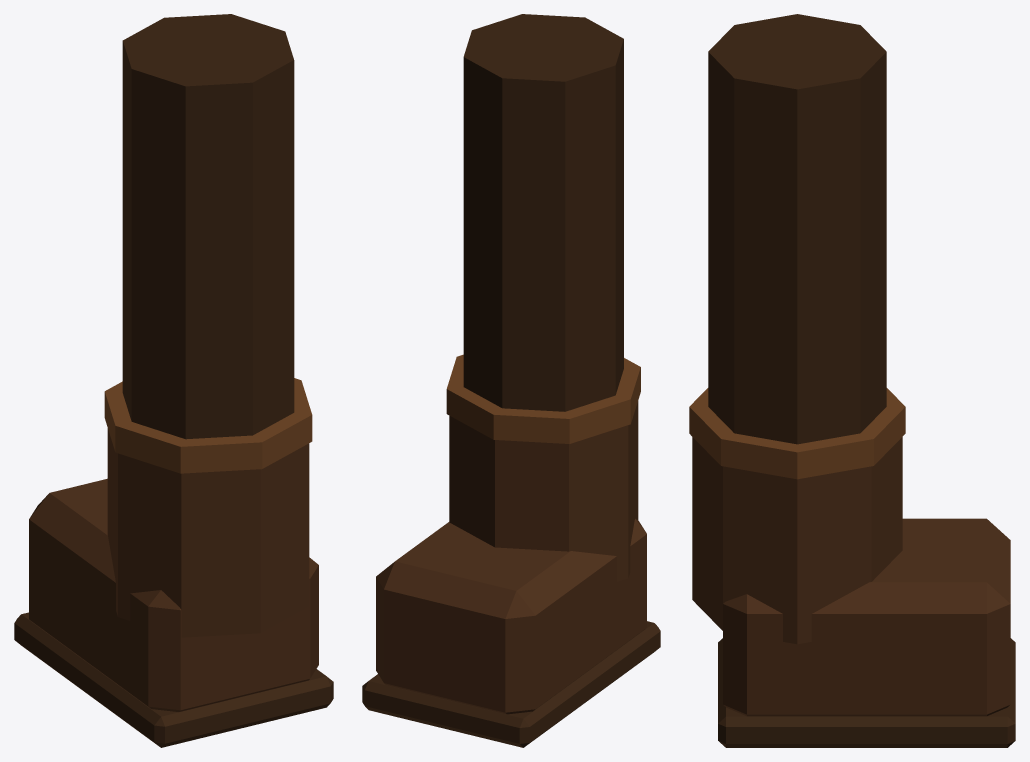
Rendered from LegLeft.glb.
3 views of the same model, side by side, from view 1: azimuth 30°, elevation 25°; view 2: azimuth 150°, elevation 25°; view 3: azimuth 270°, elevation 25° (orthographic). The views are drawn at different scales.
Visible parts, largest first — view 1: Sculpture; view 2: Sculpture; view 3: Sculpture.
Part boxes in pixels (x1,y1,x2,y2): Sculpture: (14,14,333,747); Sculpture: (362,14,660,747); Sculpture: (689,14,1015,747).
Bounding box in the file's own units: 0.218 × 0.7295 × 0.329.
